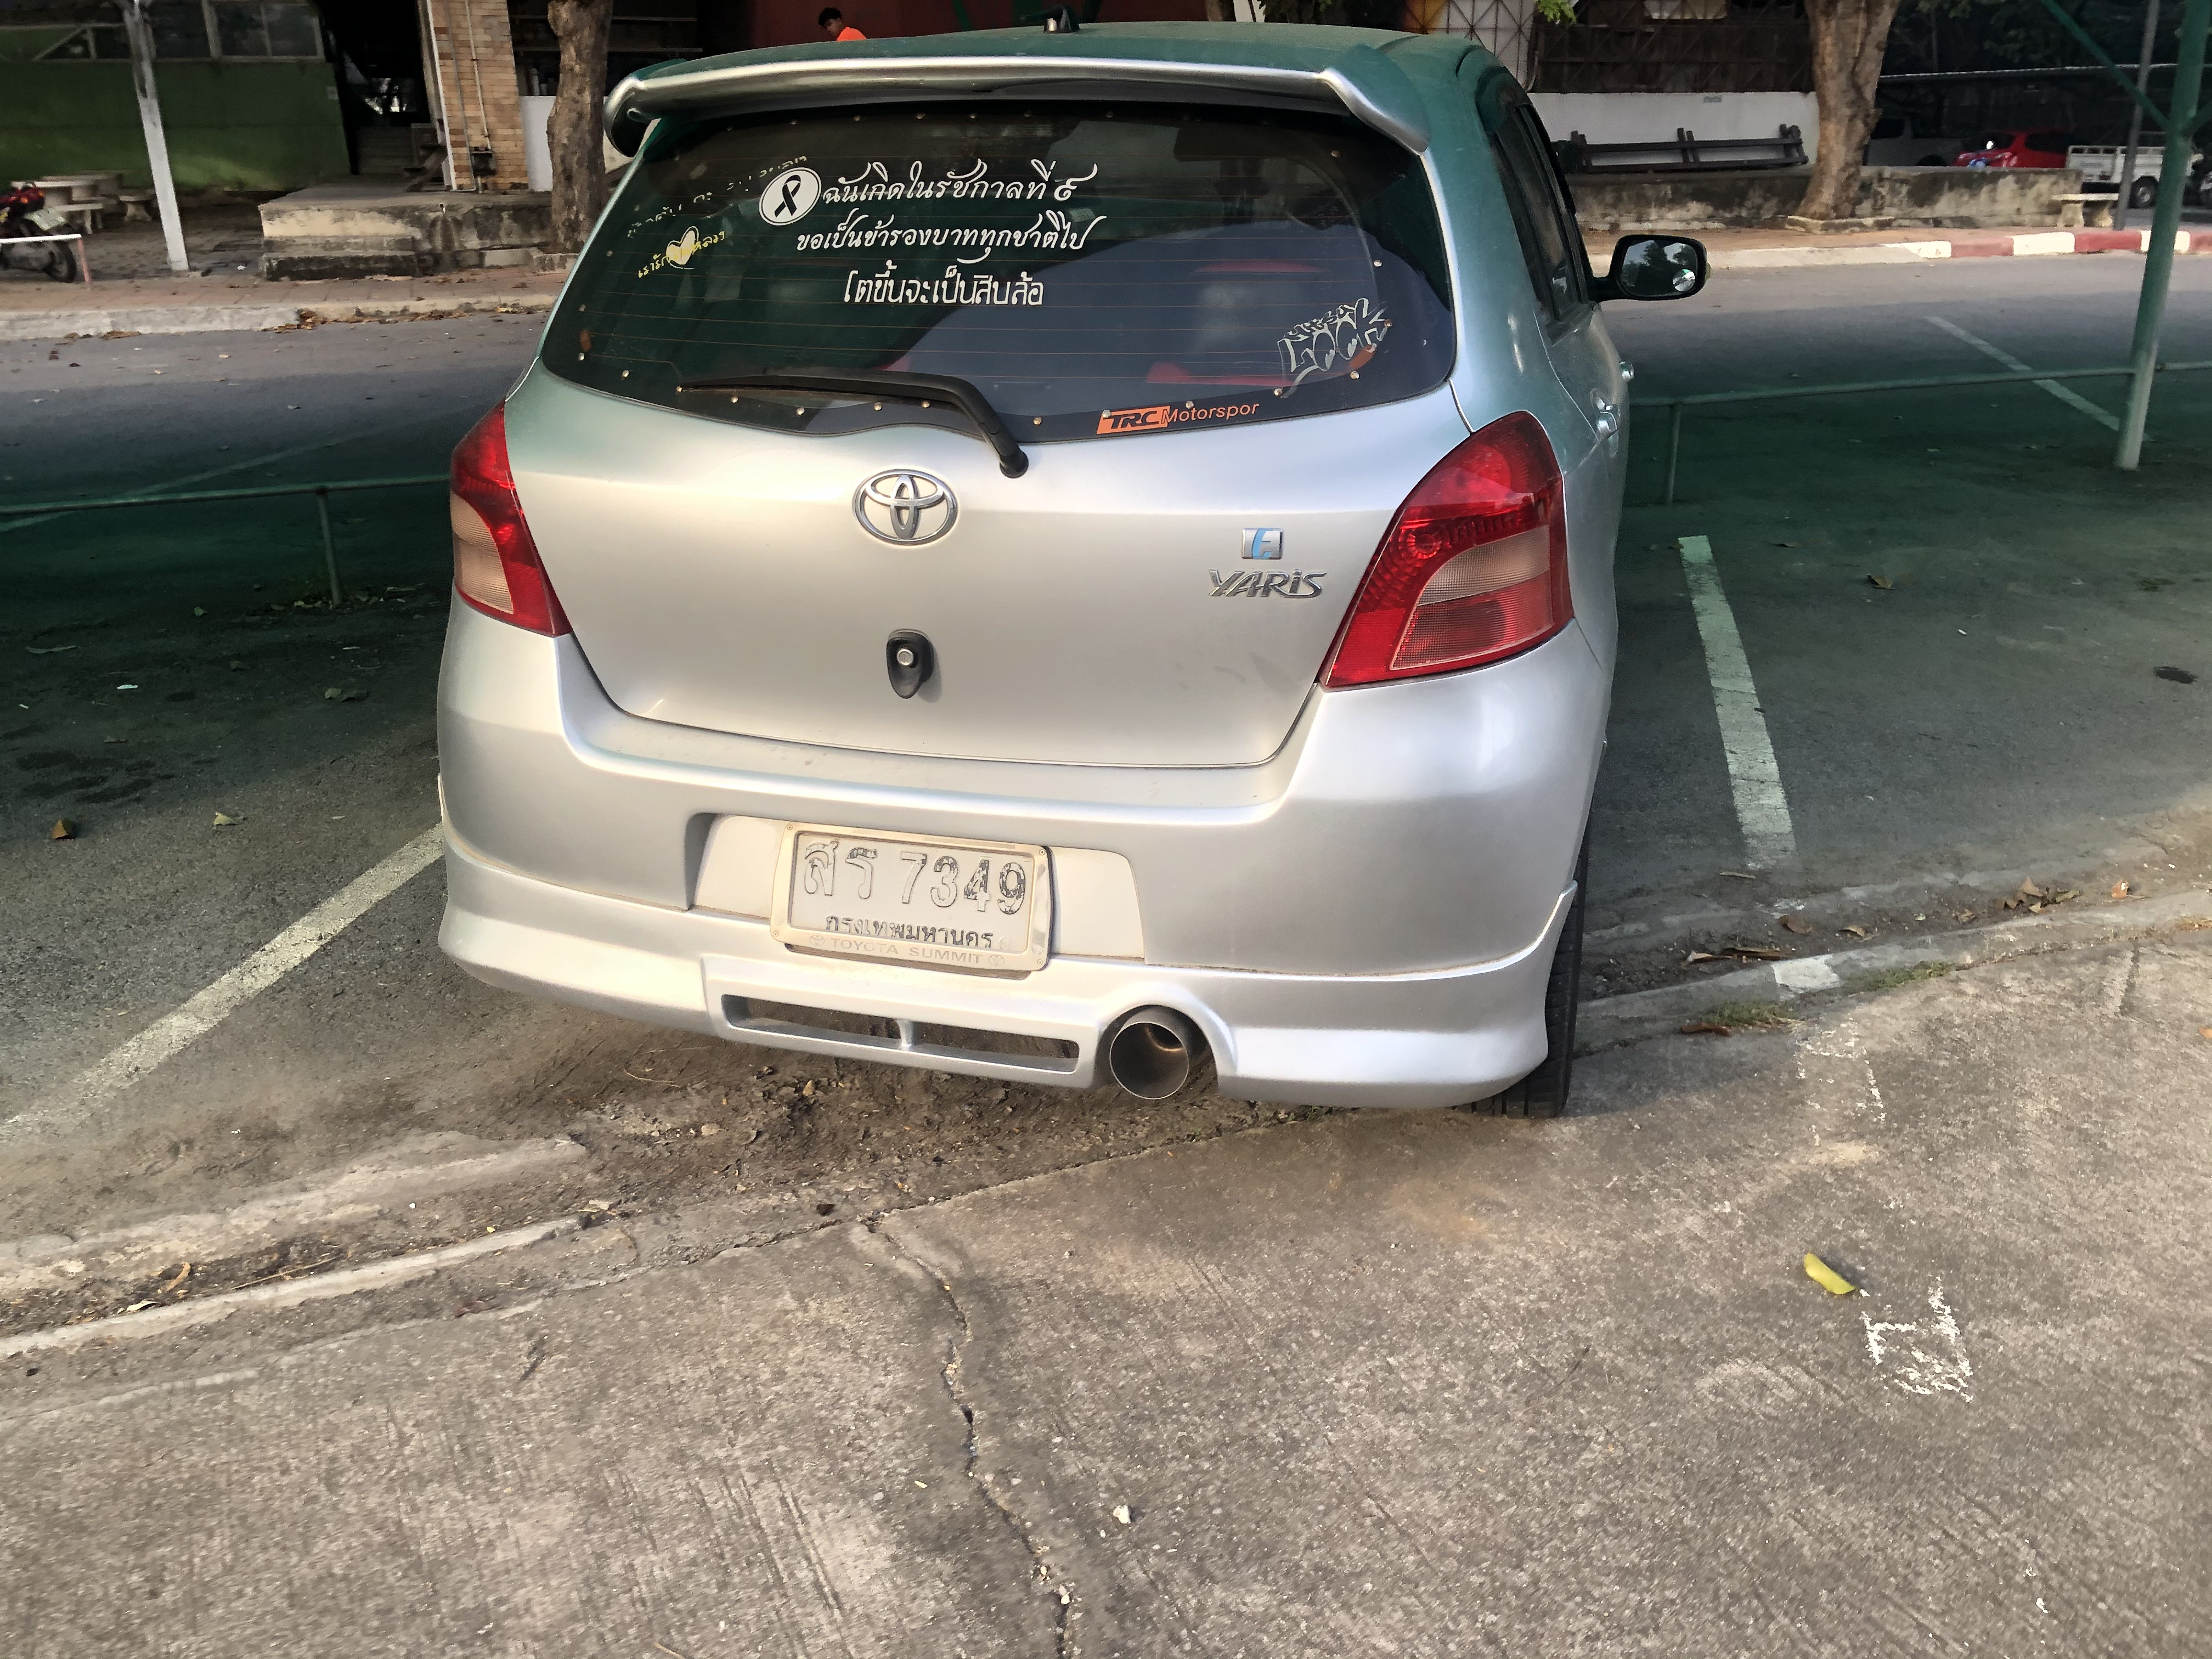in: (789, 830, 1038, 957)
out: (768, 809, 1062, 974)
